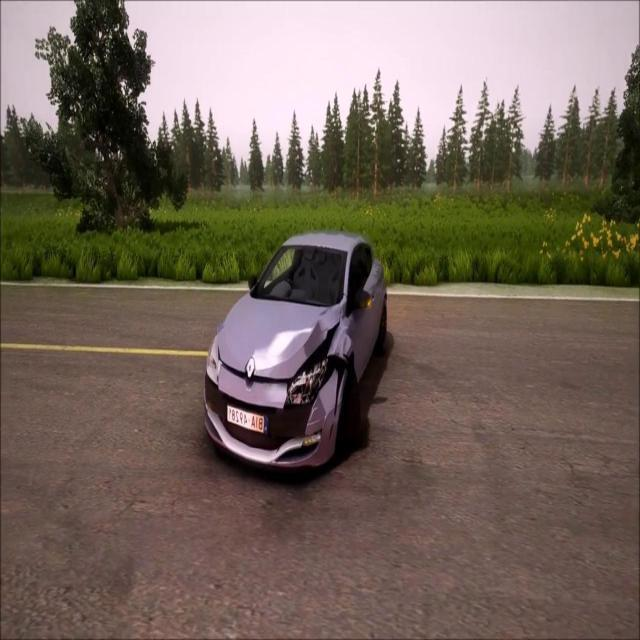accident: (196, 223, 396, 485)
